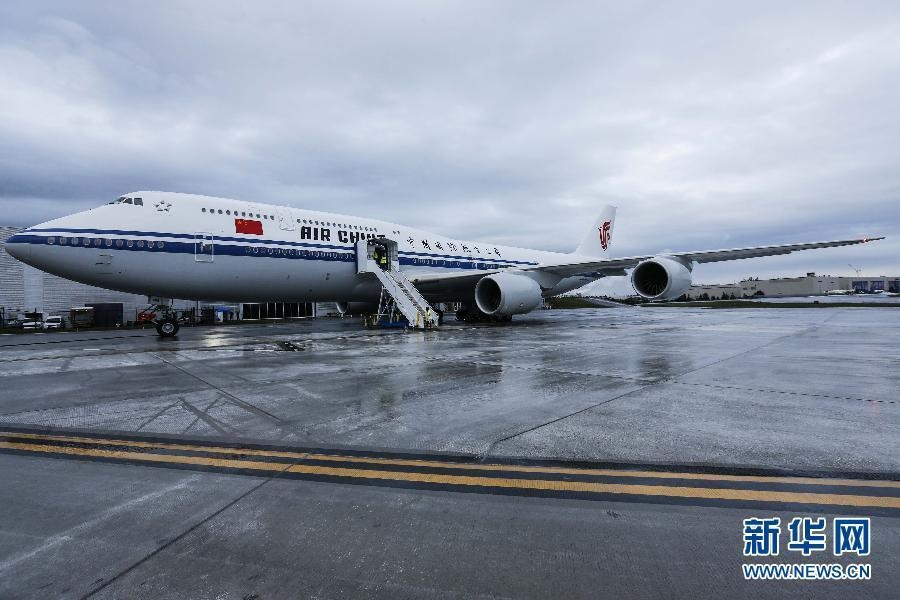airplane: (3, 184, 894, 328)
